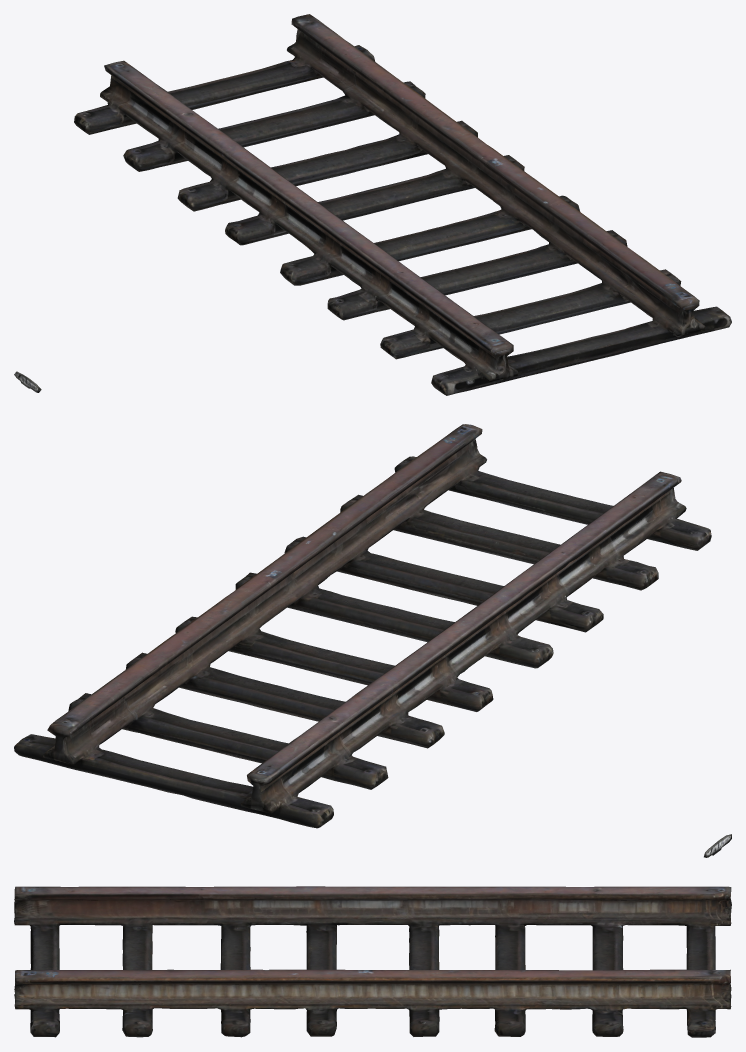
The model's file is rails.glb.
3 renders of one model, top to bottom at view 1: azimuth 30°, elevation 25°; view 2: azimuth 150°, elevation 25°; view 3: azimuth 270°, elevation 25°, orthographic. The views are drawn at different scales.
Bounding box in the file's own units: 1.48 × 0.3824 × 2.01.
1 material, 1 textured.
